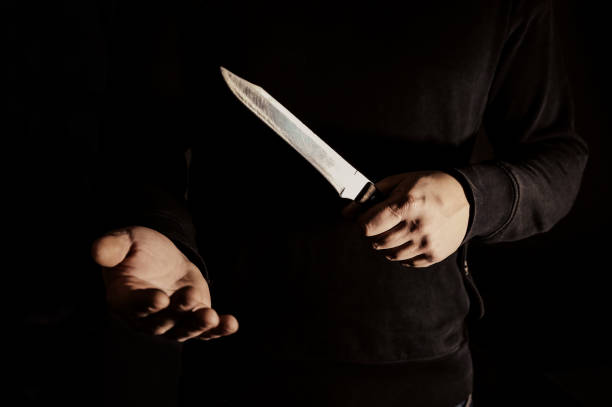knife: (221, 65, 385, 215)
